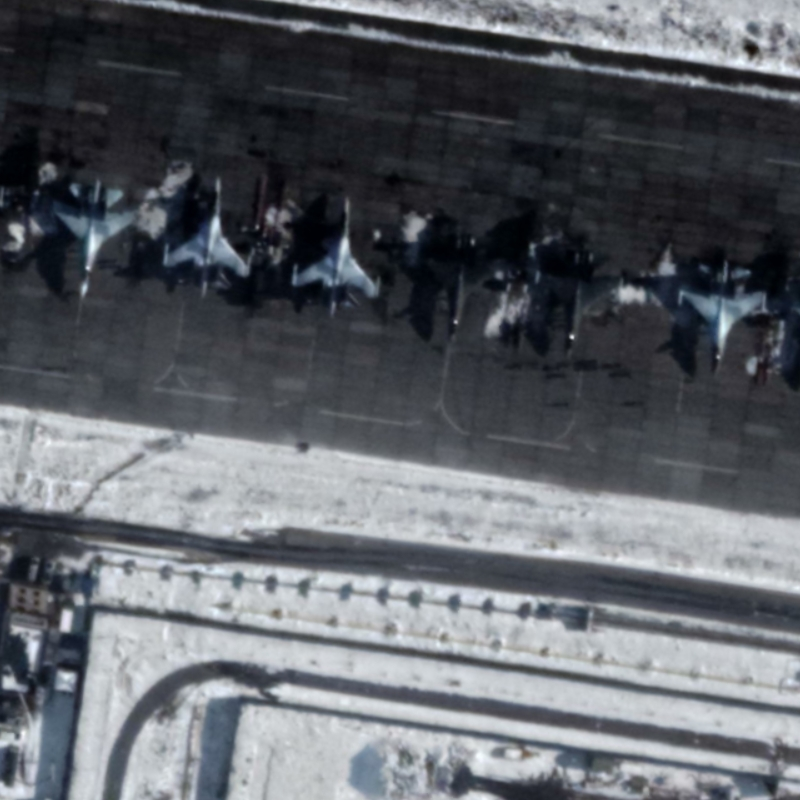A1: (158, 174, 255, 305), (288, 192, 385, 320), (49, 176, 142, 305), (673, 257, 772, 378), (416, 228, 509, 349), (538, 249, 625, 363)
